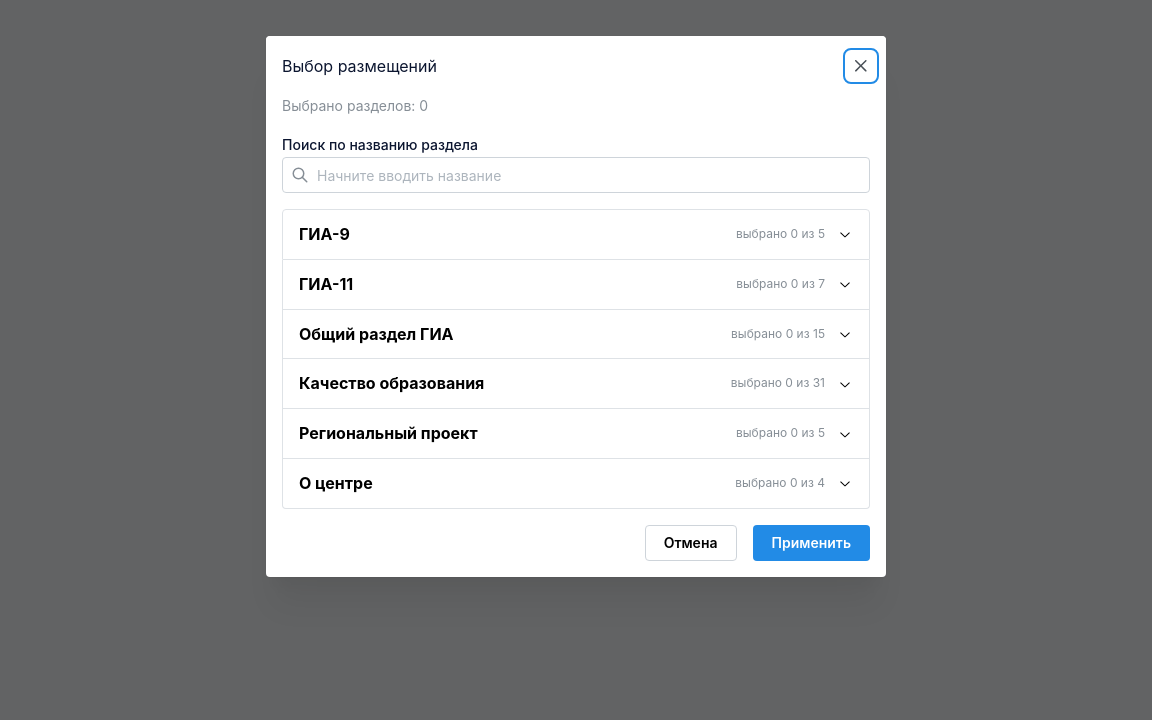
Test: PlacementSelector › starts closed and keeps at most one group open
Step 1. Click the button "ГИА-9 выбрано 0 из 5" → click(324, 234), box [283,210,869,259]
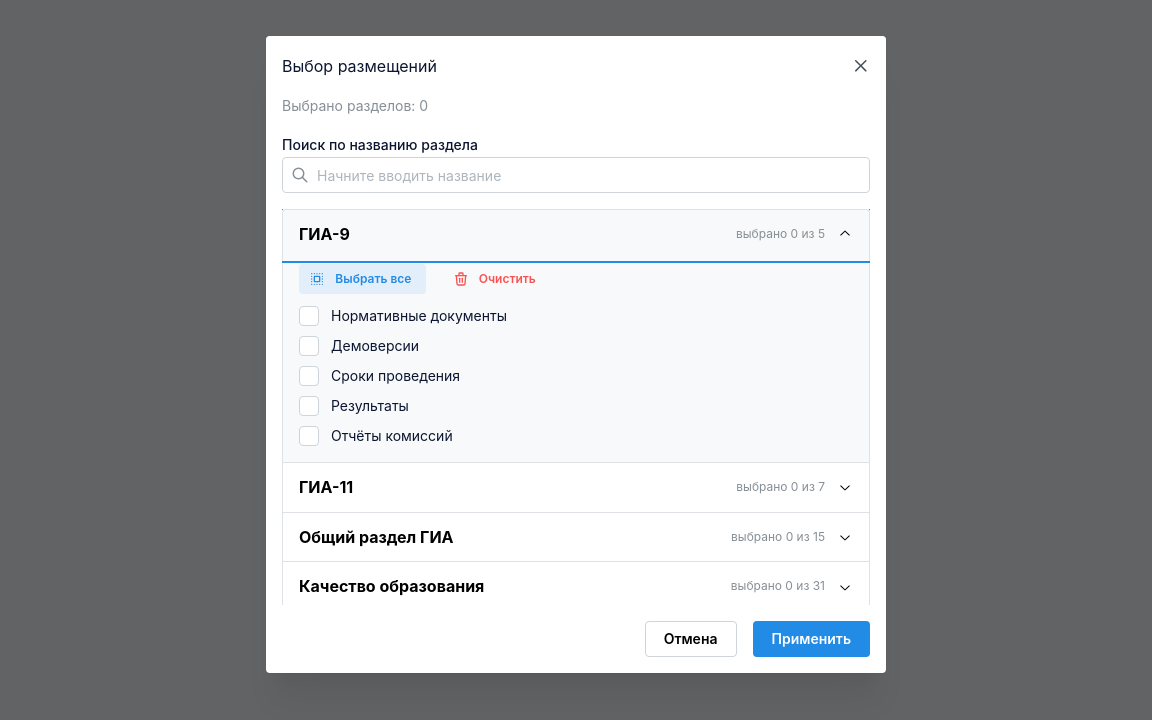
Step 2. Click the button "ГИА-11 выбрано 0 из 7" → click(326, 487), box [283,463,869,512]
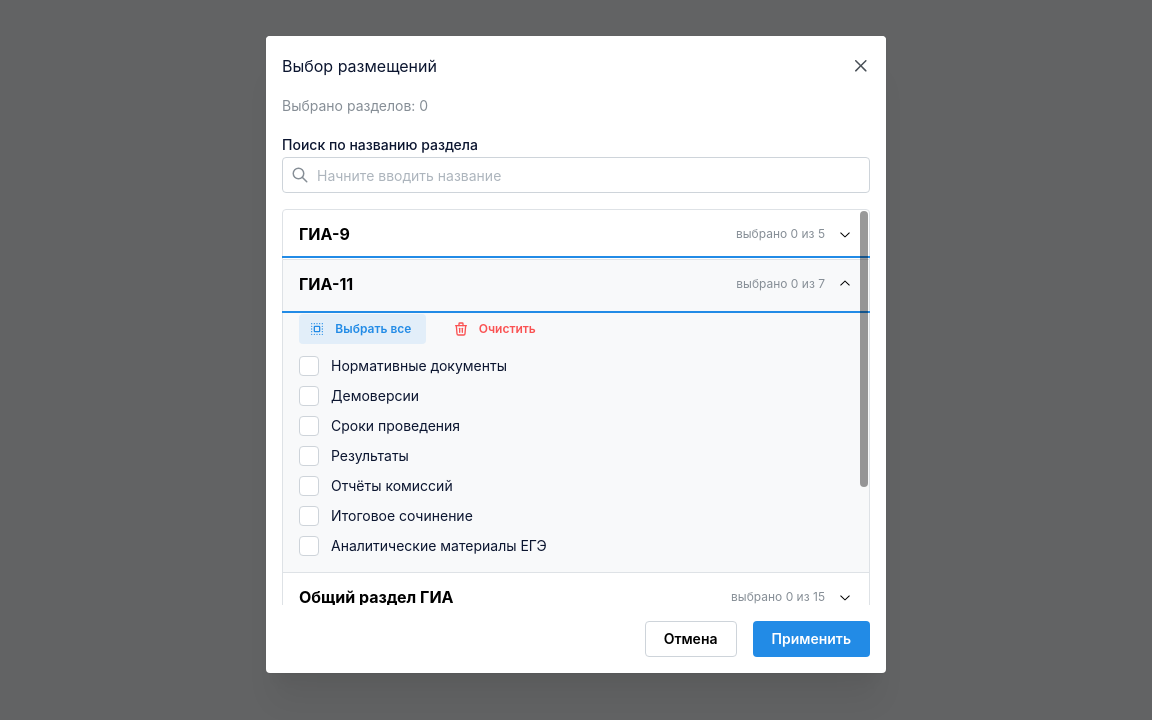
expect the button "ГИА-9 выбрано 0 из 5" is collapsed: met, box [283,210,869,259]
expect the button "ГИА-11 выбрано 0 из 7" is expanded: met, box [283,260,869,309]
